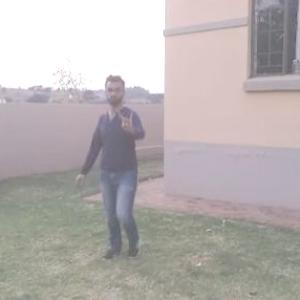takeoff-hand: (111, 104, 144, 139)
